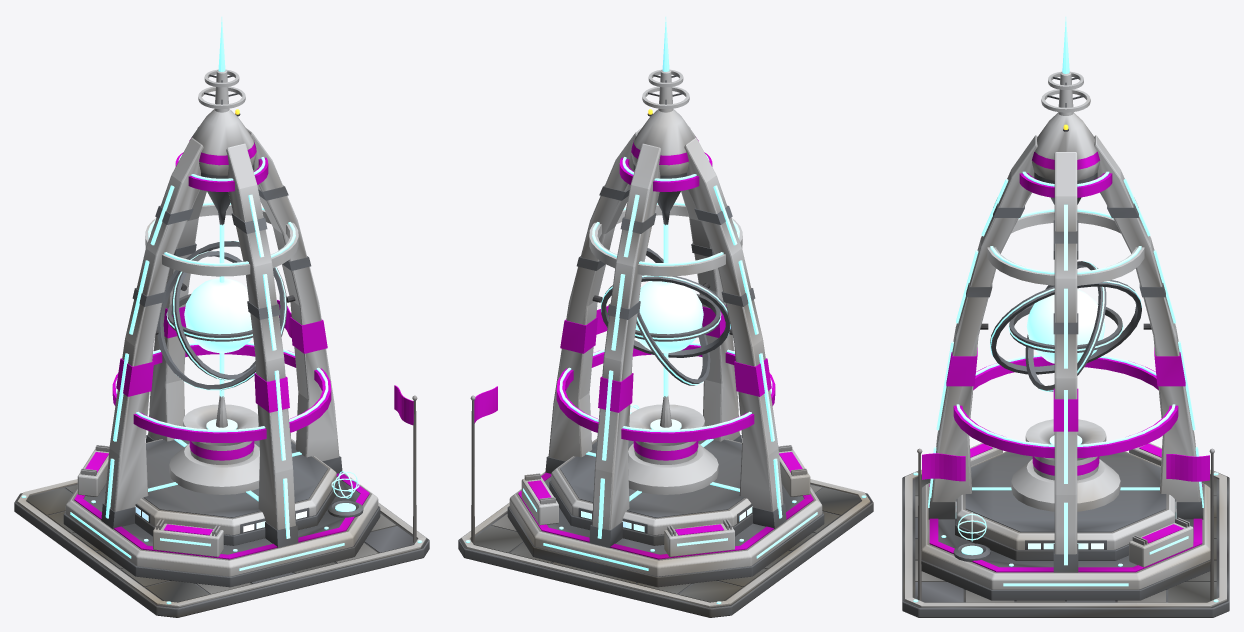
Rendered from project.glb.
3 views of the same model, side by side, from view 1: azimuth 30°, elevation 25°; view 2: azimuth 150°, elevation 25°; view 3: azimuth 270°, elevation 25° (orthographic). The views are drawn at different scales.
Parts seen in each view (by area): view 1: Body; view 2: Body; view 3: Body.
Boxes of the visible parts, bbox=[...] form: Body: bbox=[14, 17, 429, 617]; Body: bbox=[458, 17, 873, 617]; Body: bbox=[902, 17, 1229, 617].
Bounding box in the file's own units: 6 × 10.82 × 6.
1 material, 1 textured.
